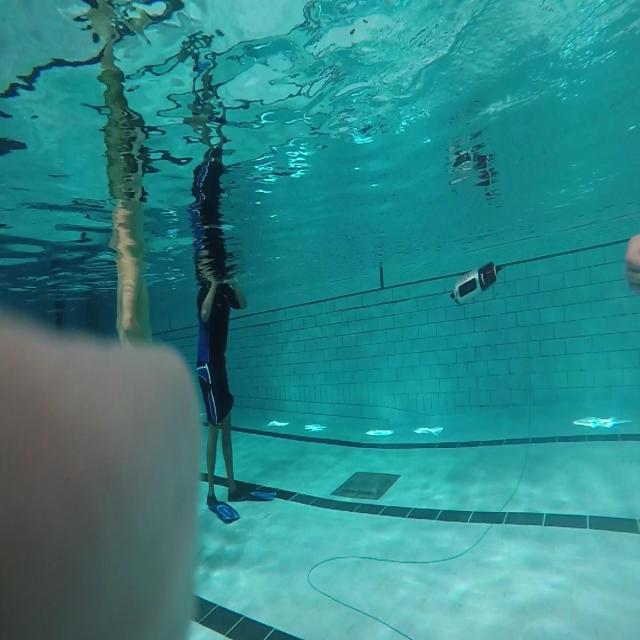human: (194, 276, 247, 508)
